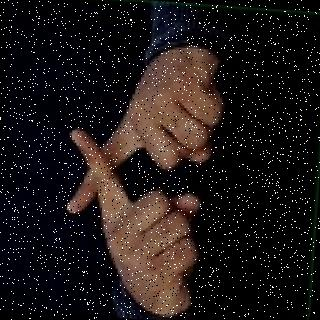X: (56, 68, 226, 302)
